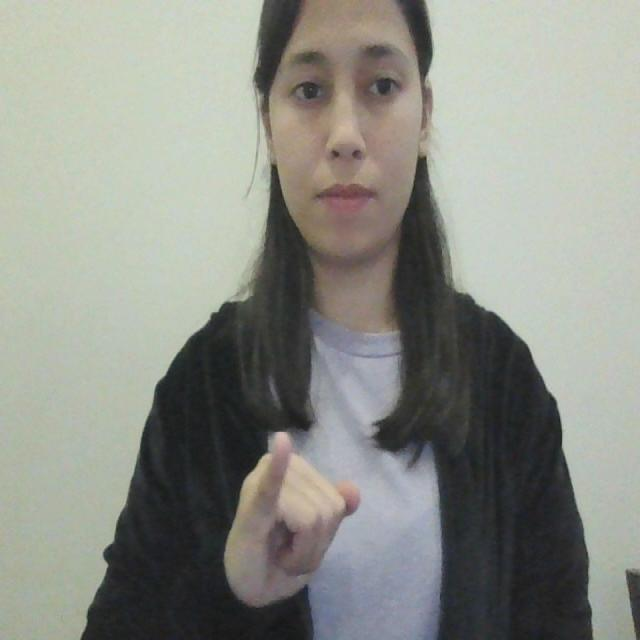kotu: (222, 423, 368, 608)
